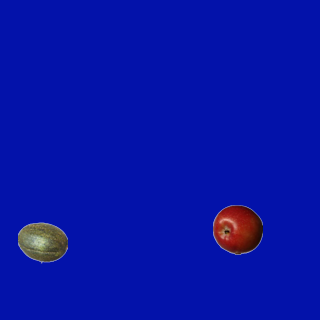Apple Braeburn: (212, 204, 262, 254)
Melon Piel de Sapo: (17, 217, 67, 267)
